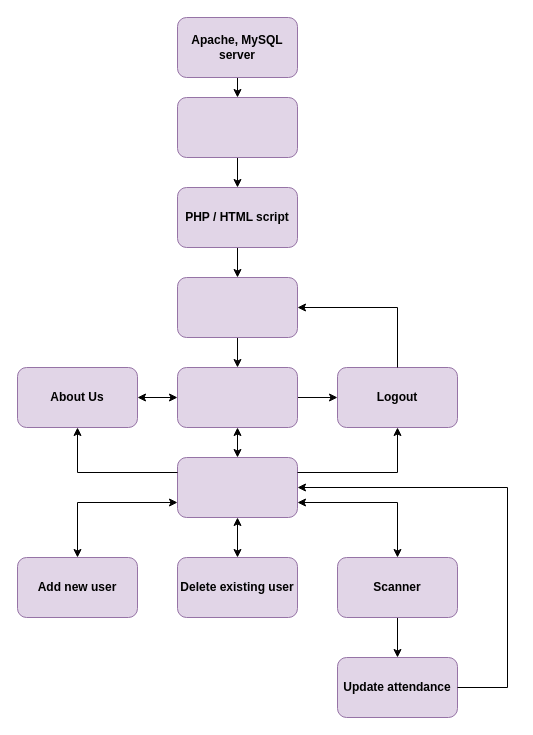
Image size: 533x735. Some labels were removed from this diagram. Each missing label, with the centre of its shape:
Connect Database: [237,127]
Dashboard (Display attendance): [237,487]
Home: [237,397]
Login Page: [237,307]
